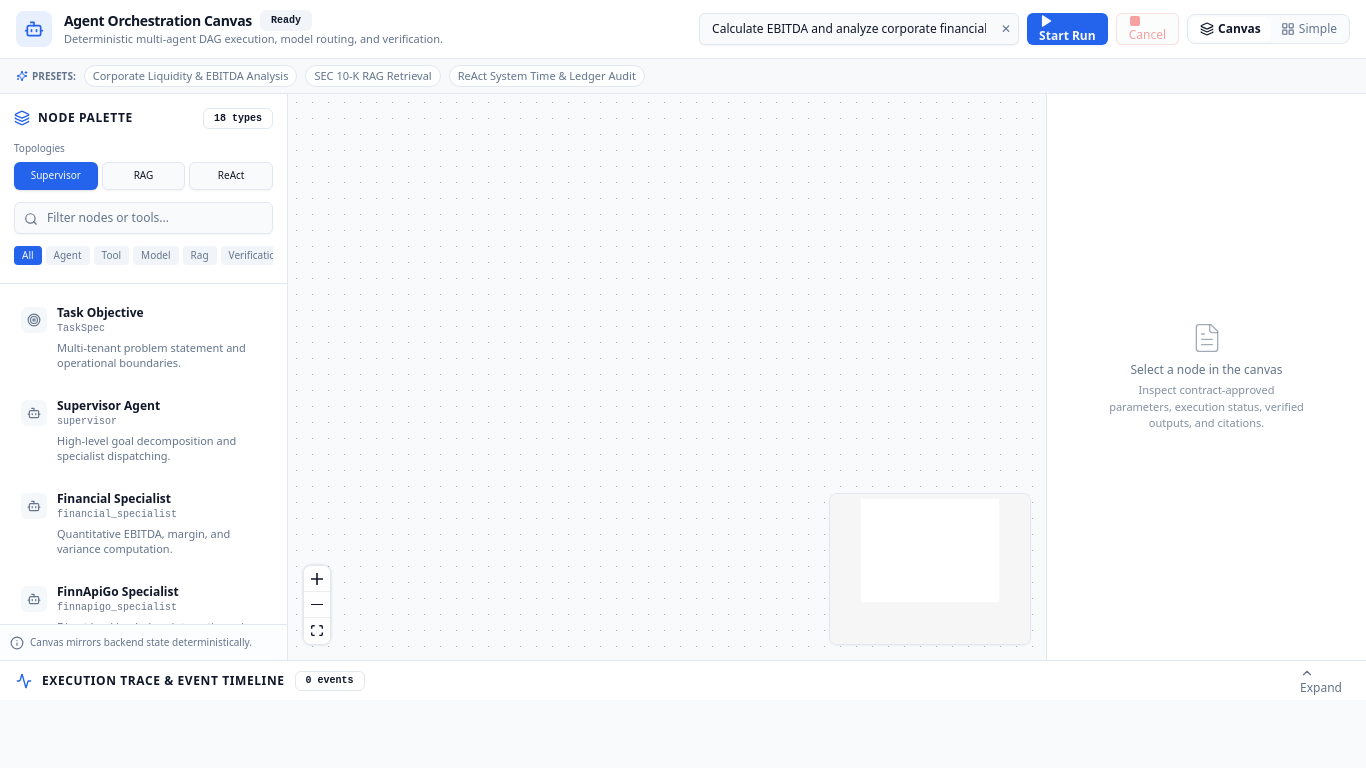
it: Agent Cooperative Cancellation Flow › disables Cancel button when run completes naturally
Click the button with test id "start-run-button": (1067,29) x1=1027 y1=13 x2=1108 y2=45
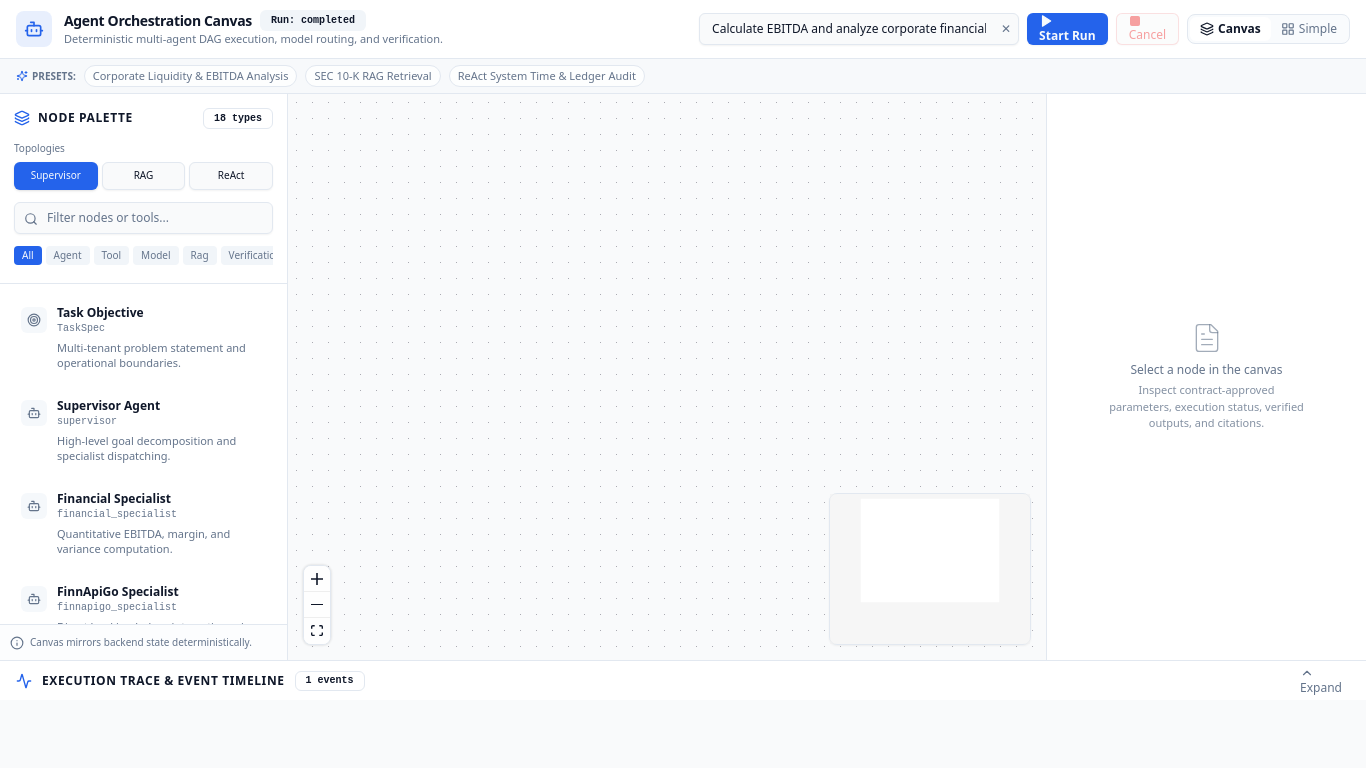
Expected: the button with test id "cancel-run-button" is disabled, x1=1116 y1=13 x2=1179 y2=45
Now the text "Run: completed" is shown, box x1=260 y1=10 x2=366 y2=31
